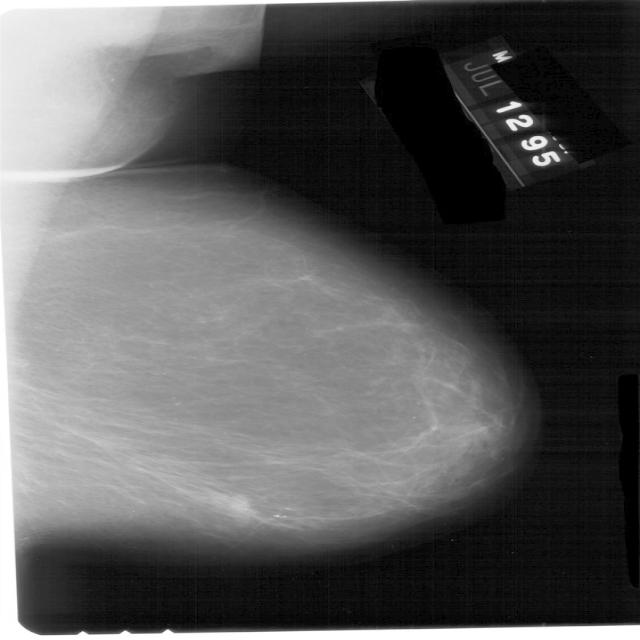tumour: (212, 494, 257, 520)
